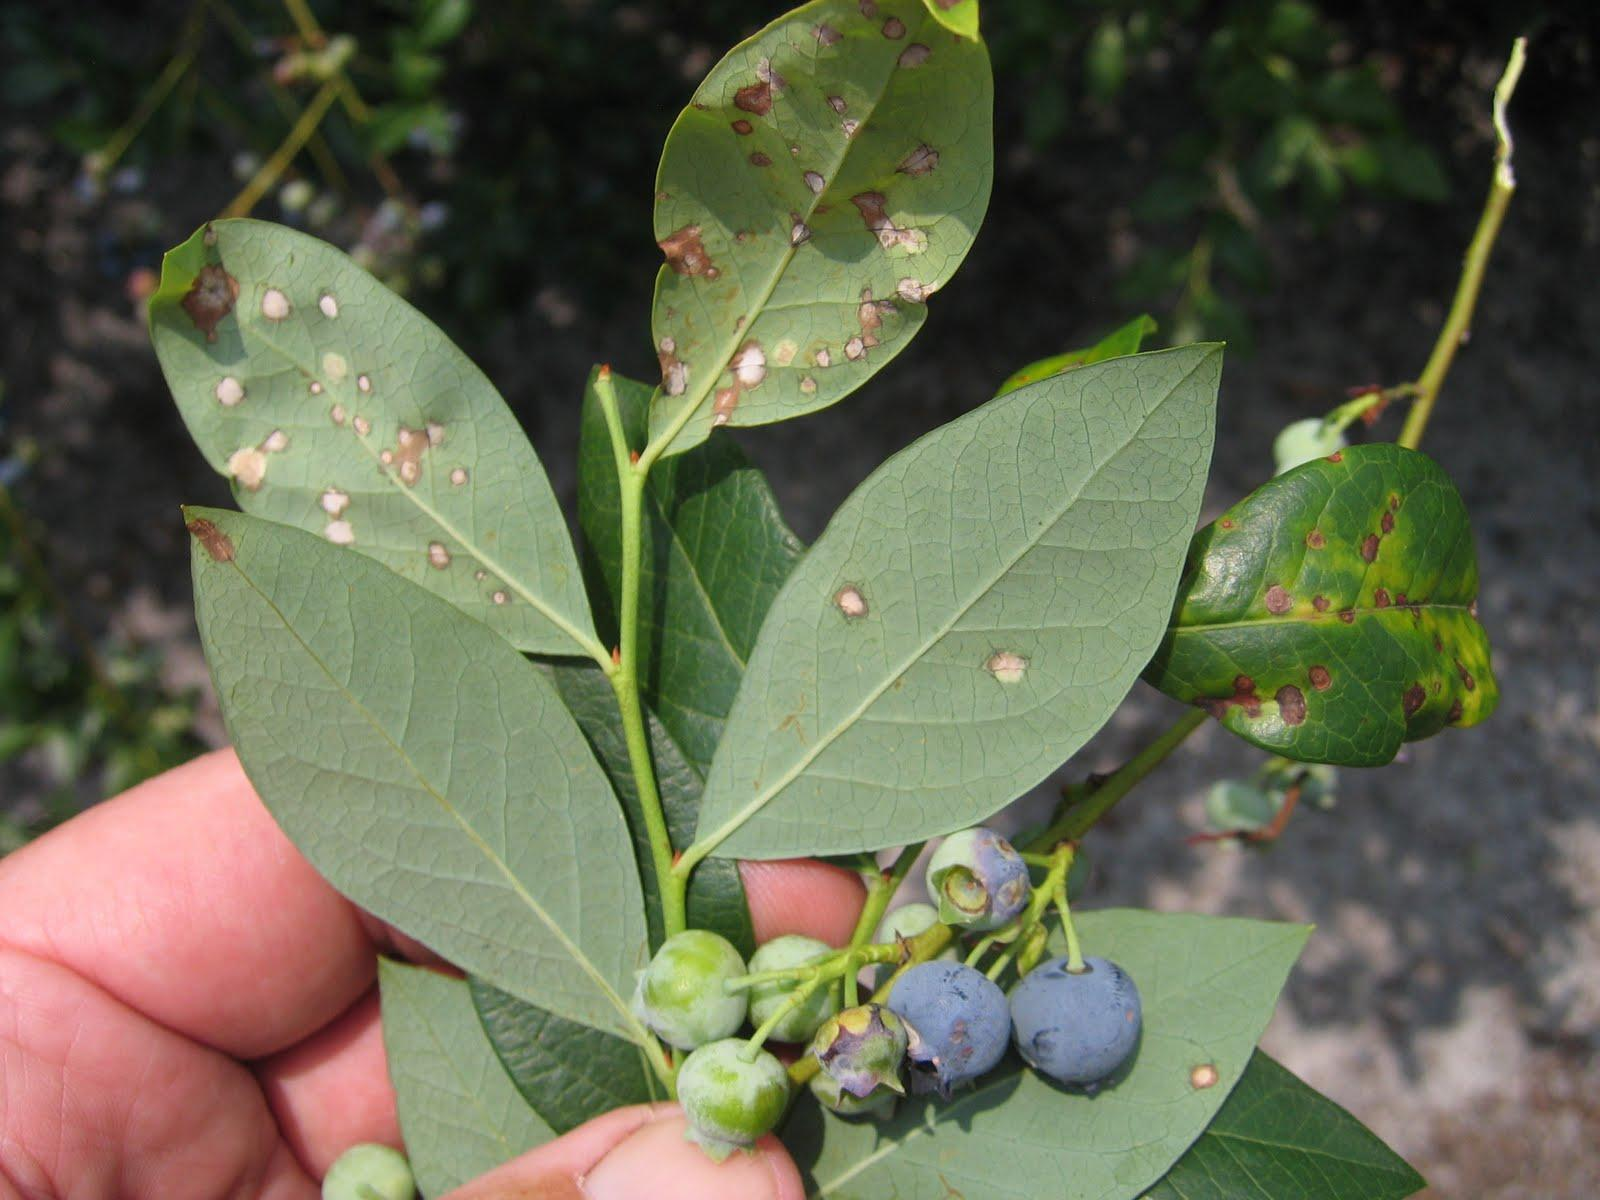Blueberry leaf: (678, 339, 1265, 874), (163, 504, 692, 1058)
